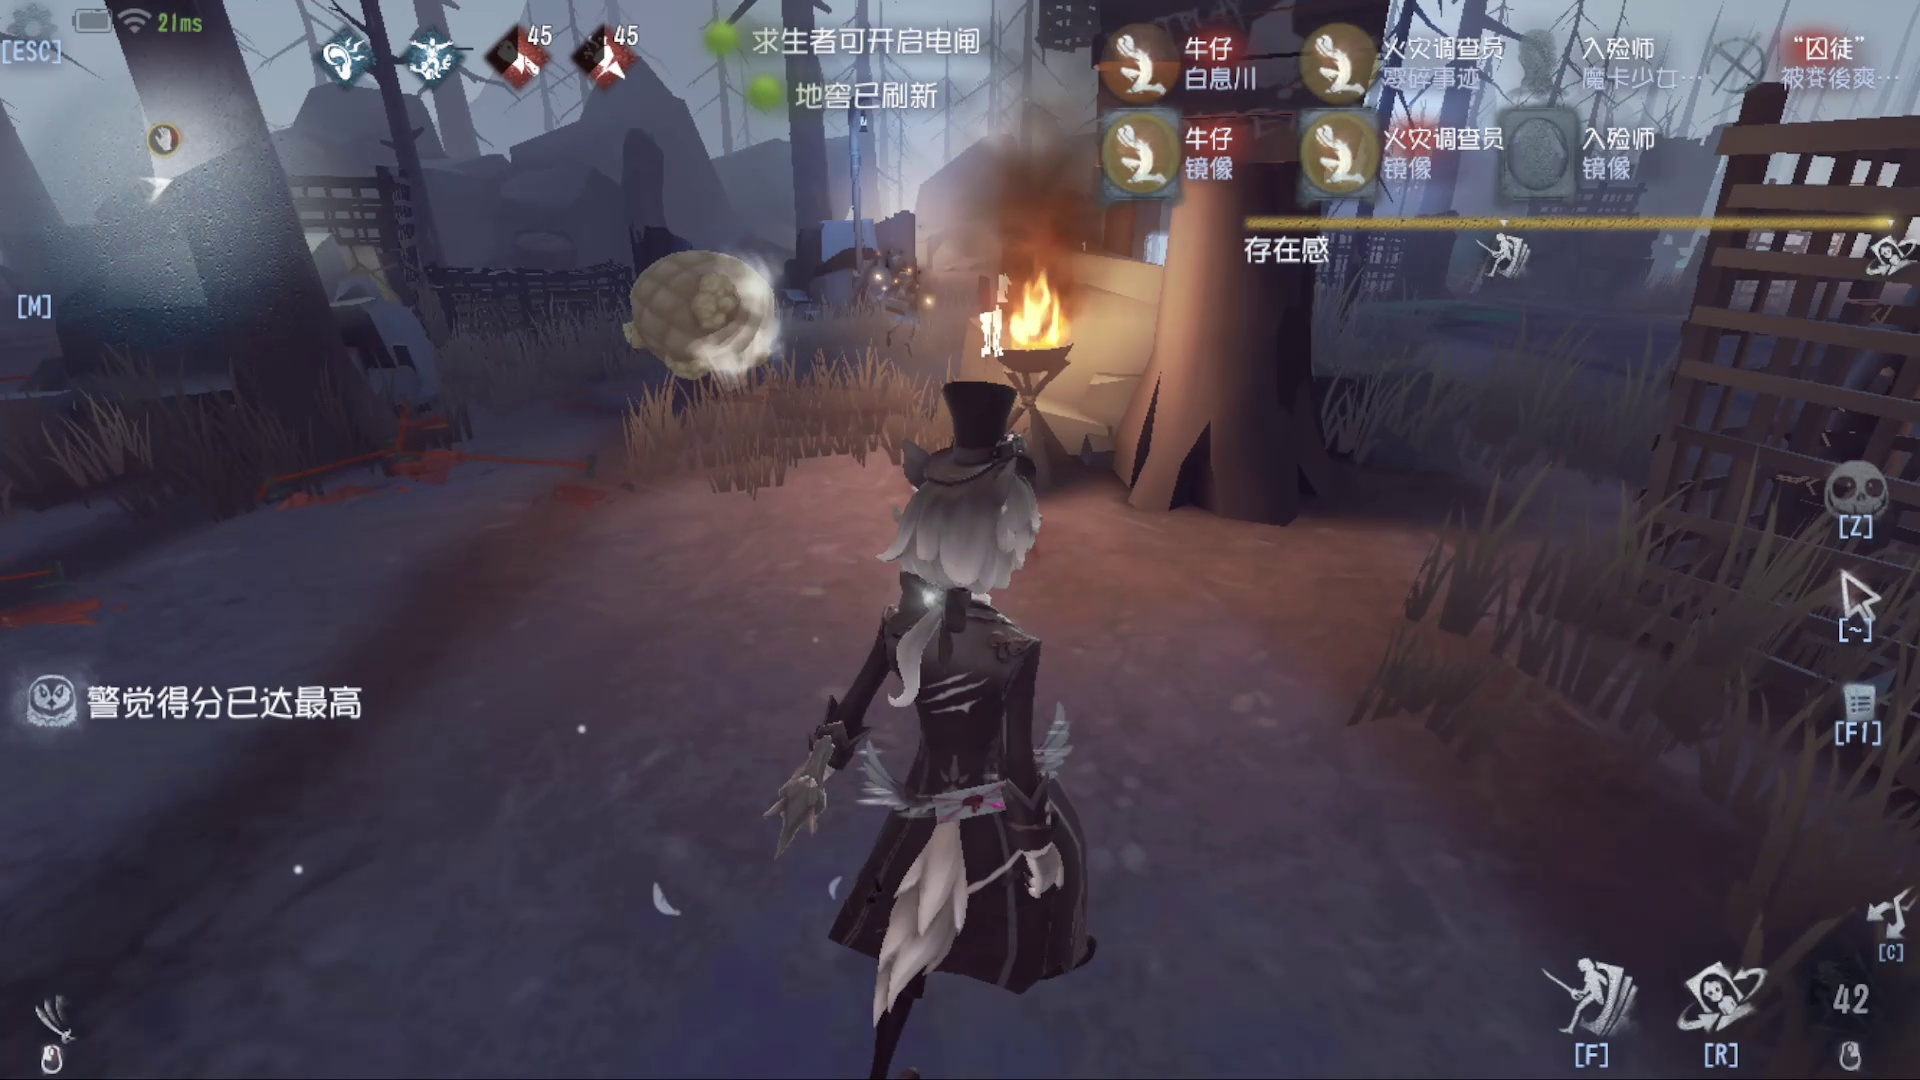求生者: (284, 406, 597, 531), (865, 237, 945, 357)
